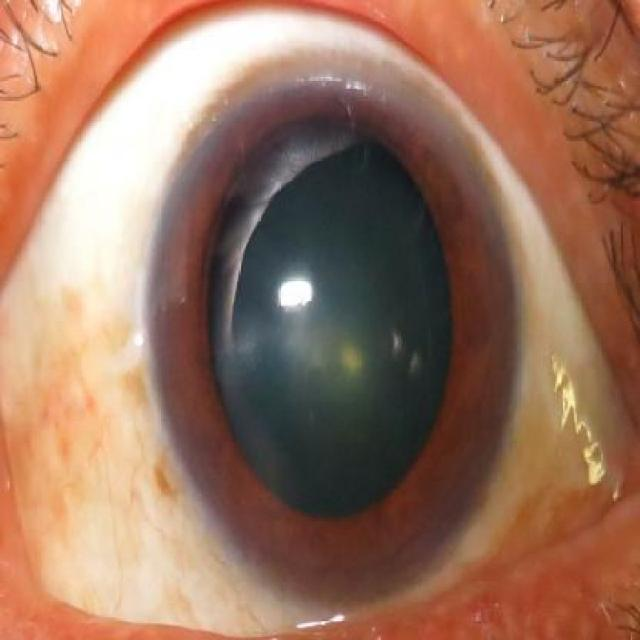Cataract: (150, 45, 526, 604)
